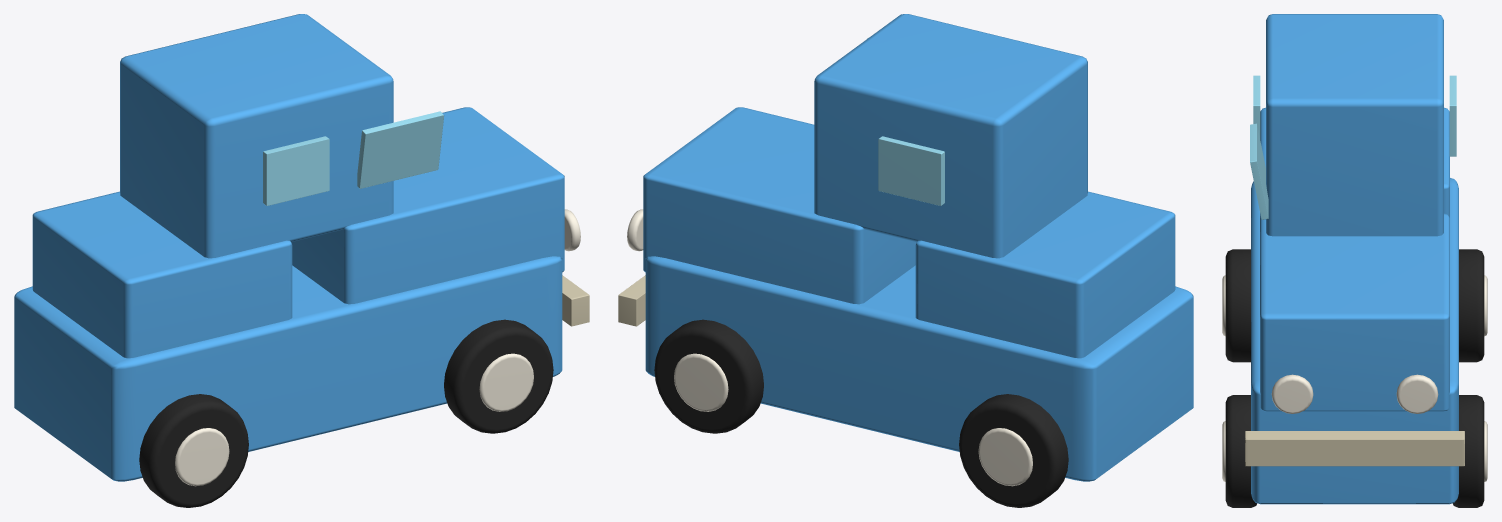
The model's file is toy-car.glb.
The picture shows the model from 3 angles, left to right: view 1: azimuth 30°, elevation 25°; view 2: azimuth 150°, elevation 25°; view 3: azimuth 270°, elevation 25°; orthographic projection. The views are drawn at different scales.
Visible parts, largest first — view 1: lower chassis, tall cabin, front hood, rear body, black tire, black tire.002, front windshield, side window left, silver hub, silver hub.002, front bumper; view 2: lower chassis, tall cabin, front hood, rear body, black tire.001, black tire.003, side window right, silver hub.001, silver hub.003, front bumper; view 3: tall cabin, front hood, lower chassis, front bumper, black tire, black tire.001, black tire.002, black tire.003, headlight, headlight.001, front windshield, rear body (+2 smaller).
Part boxes in pixels (left/top/right/bottom): lower chassis: left=14, top=256, right=562, bottom=481; tall cabin: left=120, top=14, right=393, bottom=258; front hood: left=291, top=107, right=564, bottom=304; rear body: left=32, top=191, right=292, bottom=358; black tire: left=139, top=394, right=248, bottom=507; black tire.002: left=444, top=319, right=553, bottom=433; front windshield: left=357, top=111, right=444, bottom=188; side window left: left=263, top=136, right=329, bottom=205; silver hub: left=175, top=428, right=229, bottom=486; silver hub.002: left=479, top=353, right=533, bottom=411; front bumper: left=562, top=275, right=589, bottom=326; lower chassis: left=645, top=256, right=1193, bottom=481; tall cabin: left=814, top=14, right=1087, bottom=258; front hood: left=643, top=107, right=916, bottom=304; rear body: left=915, top=191, right=1175, bottom=358; black tire.001: left=959, top=394, right=1068, bottom=507; black tire.003: left=654, top=319, right=763, bottom=433; side window right: left=878, top=136, right=944, bottom=205; silver hub.001: left=978, top=428, right=1032, bottom=486; silver hub.003: left=674, top=353, right=728, bottom=411; front bumper: left=618, top=275, right=645, bottom=326; tall cabin: left=1266, top=14, right=1443, bottom=236; front hood: left=1260, top=213, right=1449, bottom=411; lower chassis: left=1251, top=178, right=1458, bottom=504; front bumper: left=1245, top=431, right=1464, bottom=466; black tire: left=1225, top=249, right=1250, bottom=362; black tire.001: left=1459, top=249, right=1484, bottom=362; black tire.002: left=1225, top=395, right=1256, bottom=507; black tire.003: left=1453, top=395, right=1484, bottom=507; headlight: left=1271, top=374, right=1313, bottom=413; headlight.001: left=1396, top=374, right=1438, bottom=413; front windshield: left=1250, top=123, right=1268, bottom=219; rear body: left=1260, top=107, right=1449, bottom=217.
Size of the model in its own units: 0.909 by 0.665 by 0.4458.
